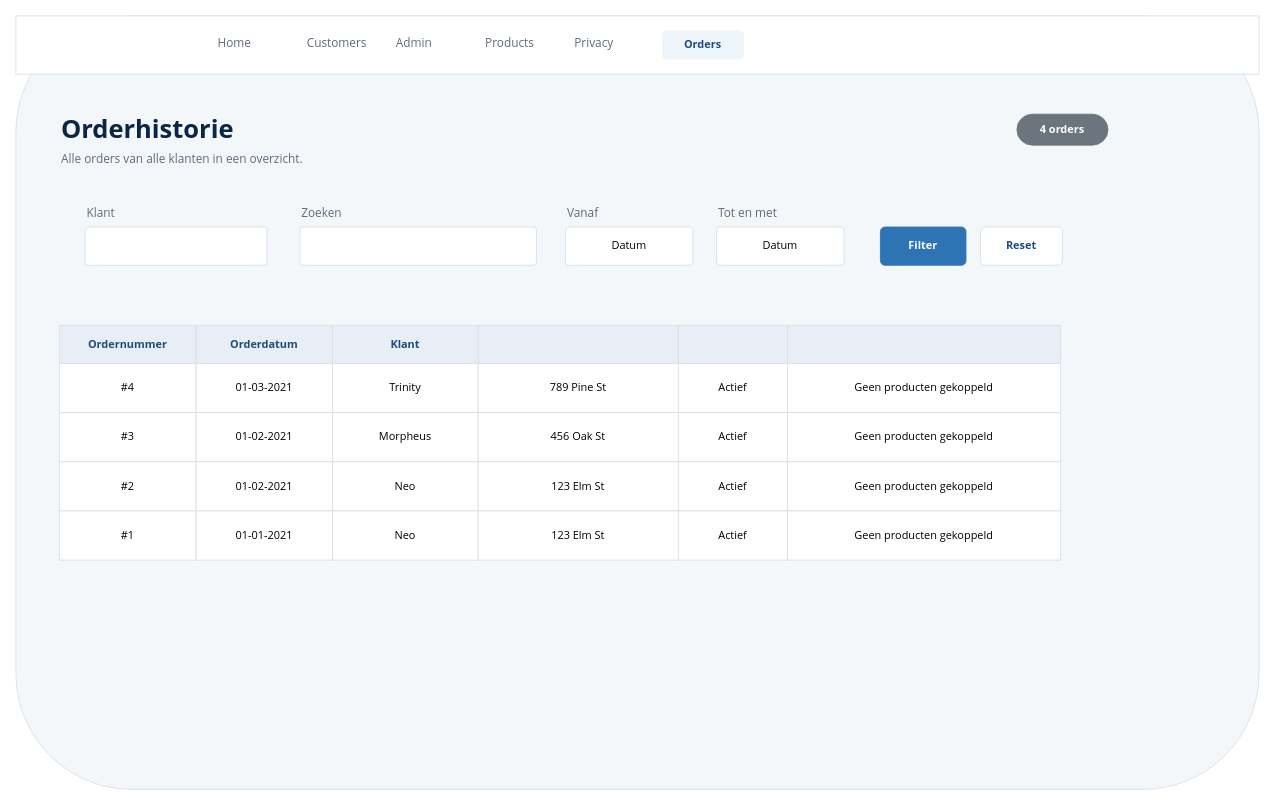
Some shapes in this 1275 by 805 pixel diagram are drawn without their labels. Each missing label, with the centre of its shape:
"Adres" goes at point 577,344.
"Alle klanten" goes at point 175,245.
"Ordernr, klant of adres" goes at point 417,245.
"Producten" goes at point 924,344.
"Status" goes at point 732,344.
